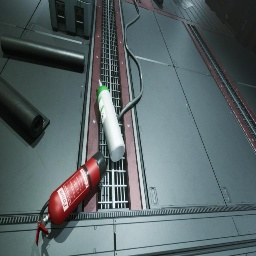0: (97, 79, 125, 162)
FireExtinguisher ]: (36, 151, 107, 246)
